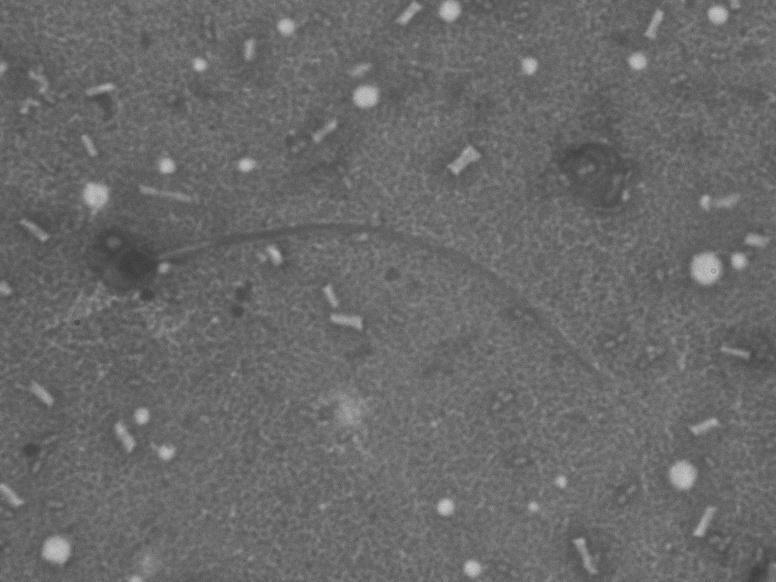Abnormal: (83, 157, 646, 389)
